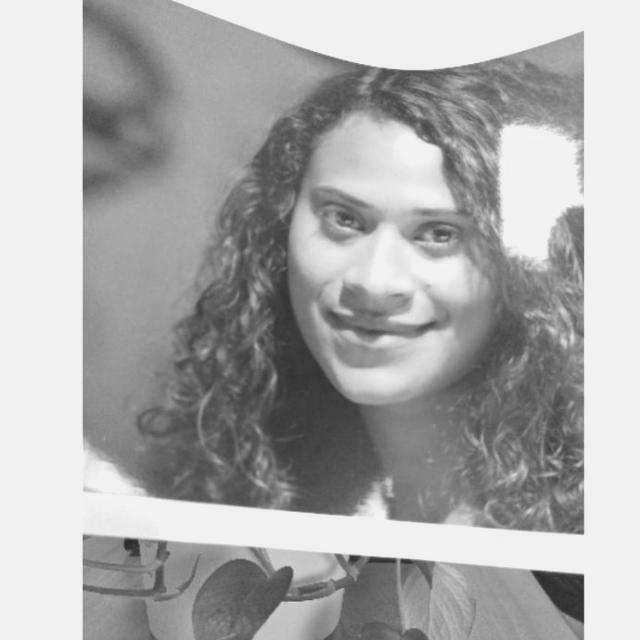fake: (82, 0, 584, 594)
